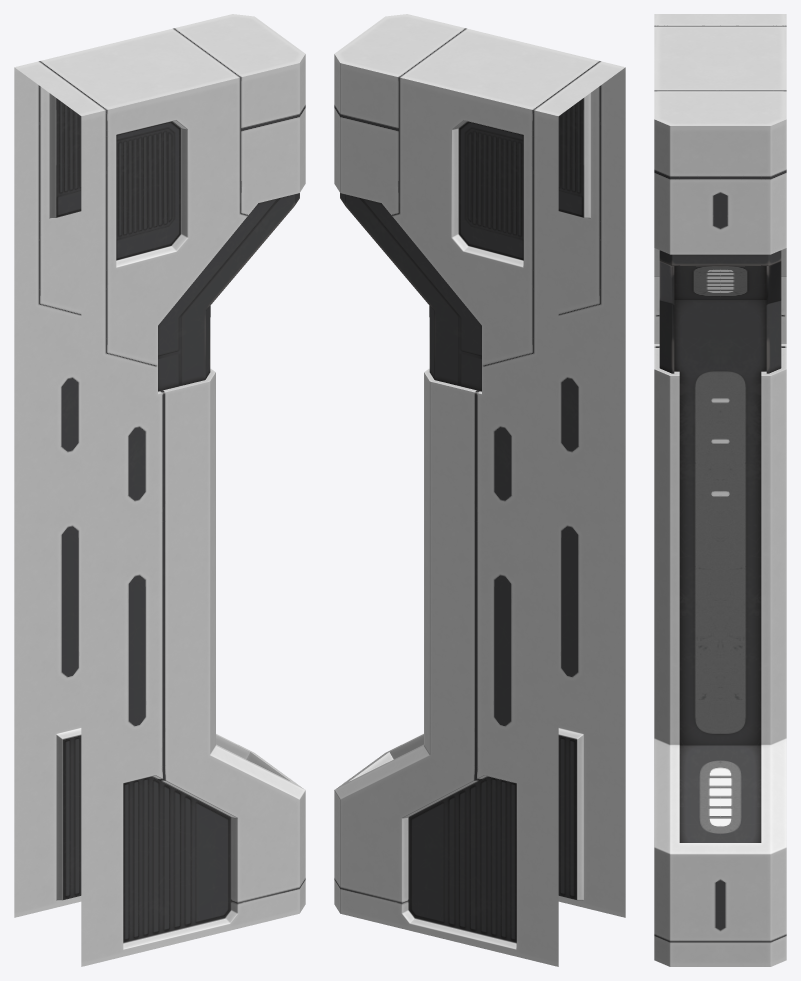
The model's file is SM_MPillar02_1.FBX.
The picture shows the model from 3 angles, left to right: view 1: azimuth 30°, elevation 25°; view 2: azimuth 150°, elevation 25°; view 3: azimuth 270°, elevation 25°; orthographic projection.
Visible parts, largest first — view 1: SM_MPillar02_1; view 2: SM_MPillar02_1; view 3: SM_MPillar02_1.
Boxes of the visible parts, x1,y1,x2,y2 form: SM_MPillar02_1: (14, 14, 305, 966); SM_MPillar02_1: (334, 14, 625, 966); SM_MPillar02_1: (654, 14, 786, 966).
Size of what is drawn, in the model's own units: 100 by 50 by 350.
